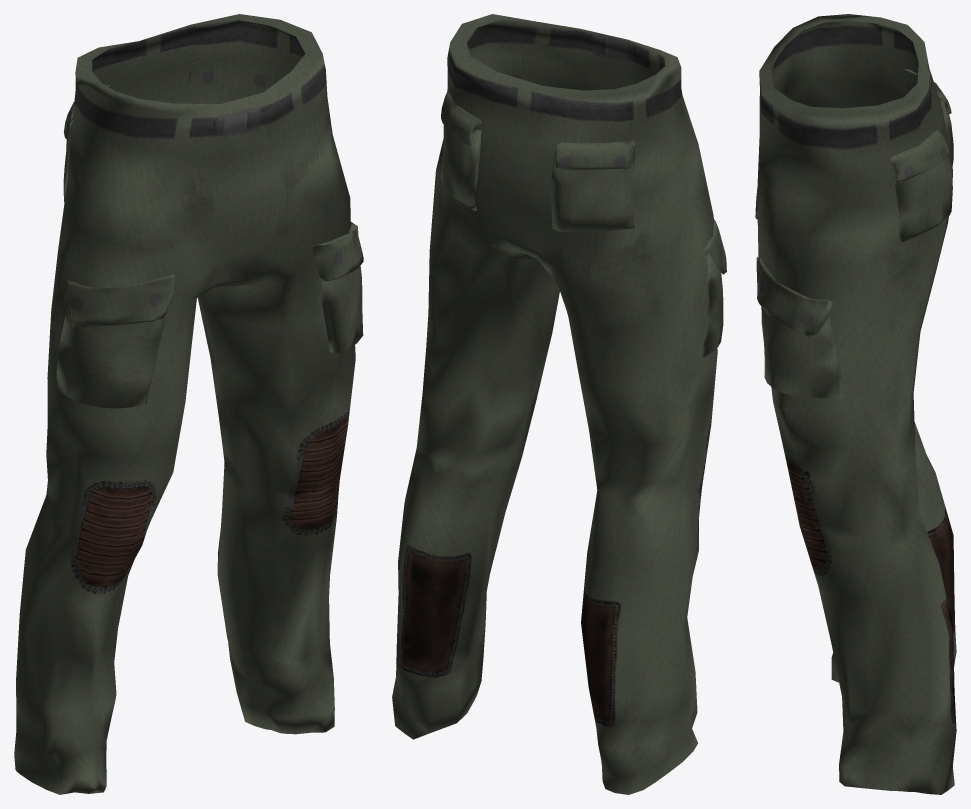
The model's file is hosen.glb.
The picture shows the model from 3 angles, left to right: view 1: azimuth 30°, elevation 25°; view 2: azimuth 150°, elevation 25°; view 3: azimuth 270°, elevation 25°; orthographic projection. The views are drawn at different scales.
Parts seen in each view (by area): view 1: hosen; view 2: hosen; view 3: hosen.
Part boxes in pixels (bbox=[...]): hosen: bbox=[14, 14, 363, 794]; hosen: bbox=[392, 14, 726, 794]; hosen: bbox=[755, 14, 956, 794].
Size of the model in its own units: 0.4657 by 1.09 by 0.2913.
1 material, 1 textured.
